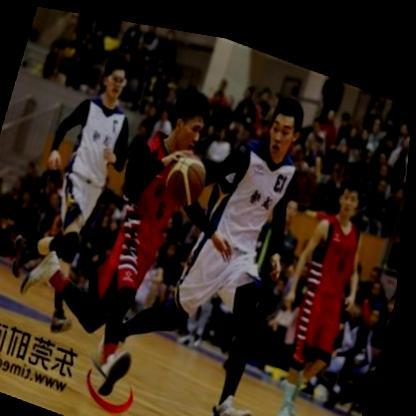basketball: (161, 140, 213, 205)
